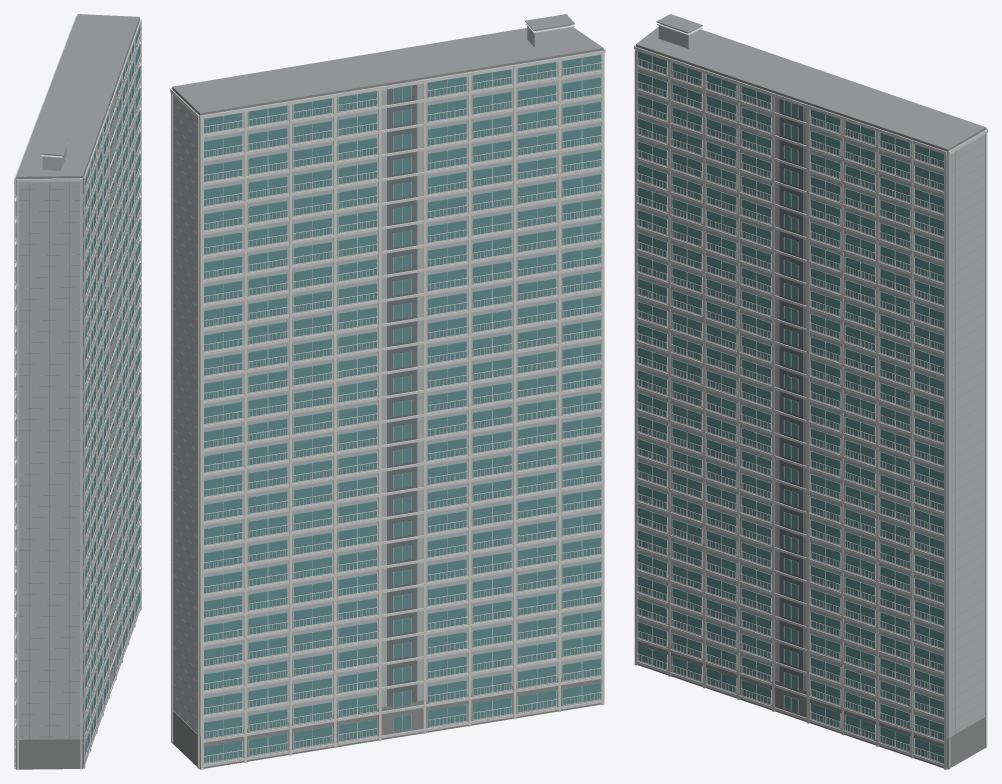
Rendered from bespoke-jamsil-ricenz-213.glb.
The picture shows the model from 3 angles, left to right: view 1: azimuth 30°, elevation 25°; view 2: azimuth 150°, elevation 25°; view 3: azimuth 270°, elevation 25°; orthographic projection. The views are drawn at different scales.
Visible parts, largest first — view 1: Ricenz213_editable_Ricenz213_light_grey_solid_wall, Ricenz213_editable_Ricenz213_turquoise_balcony_glazing, Ricenz213_editable_Ricenz213_modest_grey_flat_roof_caps, Ricenz213_white_exact_chunk_3, Ricenz213_white_exact_chunk_0, Ricenz213_white_exact_chunk_1, Ricenz213_white_exact_chunk_2, Ricenz213_editable_Ricenz213_muted_ground_wall, Ricenz213_white_exact_chunk_6, Ricenz213_editable_Ricenz213_narrow_charcoal_service_strips; view 2: Ricenz213_editable_Ricenz213_turquoise_balcony_glazing, Ricenz213_editable_Ricenz213_light_grey_solid_wall, Ricenz213_white_exact_chunk_6, Ricenz213_white_exact_chunk_4, Ricenz213_white_exact_chunk_5, Ricenz213_white_exact_chunk_3, Ricenz213_editable_Ricenz213_modest_grey_flat_roof_caps, Ricenz213_editable_Ricenz213_narrow_charcoal_service_strips, Ricenz213_editable_Ricenz213_muted_ground_wall; view 3: Ricenz213_editable_Ricenz213_turquoise_balcony_glazing, Ricenz213_editable_Ricenz213_light_grey_solid_wall, Ricenz213_white_exact_chunk_3, Ricenz213_white_exact_chunk_1, Ricenz213_white_exact_chunk_0, Ricenz213_white_exact_chunk_2, Ricenz213_editable_Ricenz213_modest_grey_flat_roof_caps, Ricenz213_editable_Ricenz213_narrow_charcoal_service_strips, Ricenz213_editable_Ricenz213_muted_ground_wall, Ricenz213_white_exact_chunk_6.
Part boxes in pixels (left/top/right/bottom): Ricenz213_editable_Ricenz213_light_grey_solid_wall: left=16, top=20, right=139, bottom=739; Ricenz213_editable_Ricenz213_turquoise_balcony_glazing: left=15, top=22, right=140, bottom=754; Ricenz213_editable_Ricenz213_modest_grey_flat_roof_caps: left=16, top=14, right=139, bottom=739; Ricenz213_white_exact_chunk_3: left=84, top=18, right=141, bottom=768; Ricenz213_white_exact_chunk_0: left=16, top=148, right=103, bottom=769; Ricenz213_white_exact_chunk_1: left=97, top=77, right=128, bottom=711; Ricenz213_white_exact_chunk_2: left=123, top=42, right=141, bottom=640; Ricenz213_editable_Ricenz213_muted_ground_wall: left=15, top=586, right=140, bottom=769; Ricenz213_white_exact_chunk_6: left=14, top=15, right=76, bottom=769; Ricenz213_editable_Ricenz213_narrow_charcoal_service_strips: left=109, top=92, right=113, bottom=662; Ricenz213_editable_Ricenz213_turquoise_balcony_glazing: left=203, top=55, right=600, bottom=762; Ricenz213_editable_Ricenz213_light_grey_solid_wall: left=172, top=25, right=603, bottom=736; Ricenz213_white_exact_chunk_6: left=200, top=23, right=604, bottom=769; Ricenz213_white_exact_chunk_4: left=292, top=85, right=468, bottom=745; Ricenz213_white_exact_chunk_5: left=426, top=62, right=601, bottom=723; Ricenz213_white_exact_chunk_3: left=170, top=88, right=333, bottom=768; Ricenz213_editable_Ricenz213_modest_grey_flat_roof_caps: left=172, top=14, right=603, bottom=730; Ricenz213_editable_Ricenz213_narrow_charcoal_service_strips: left=387, top=80, right=417, bottom=706; Ricenz213_editable_Ricenz213_muted_ground_wall: left=173, top=675, right=601, bottom=769; Ricenz213_editable_Ricenz213_turquoise_balcony_glazing: left=637, top=51, right=943, bottom=762; Ricenz213_editable_Ricenz213_light_grey_solid_wall: left=636, top=23, right=985, bottom=737; Ricenz213_white_exact_chunk_3: left=634, top=46, right=987, bottom=769; Ricenz213_white_exact_chunk_1: left=705, top=74, right=875, bottom=743; Ricenz213_white_exact_chunk_0: left=634, top=44, right=737, bottom=696; Ricenz213_white_exact_chunk_2: left=843, top=121, right=943, bottom=766; Ricenz213_editable_Ricenz213_modest_grey_flat_roof_caps: left=636, top=14, right=986, bottom=733; Ricenz213_editable_Ricenz213_narrow_charcoal_service_strips: left=779, top=95, right=803, bottom=689; Ricenz213_editable_Ricenz213_muted_ground_wall: left=637, top=637, right=985, bottom=769; Ricenz213_white_exact_chunk_6: left=657, top=23, right=987, bottom=746.
Size of the model in its own units: 36.85 by 82.73 by 41.62.
